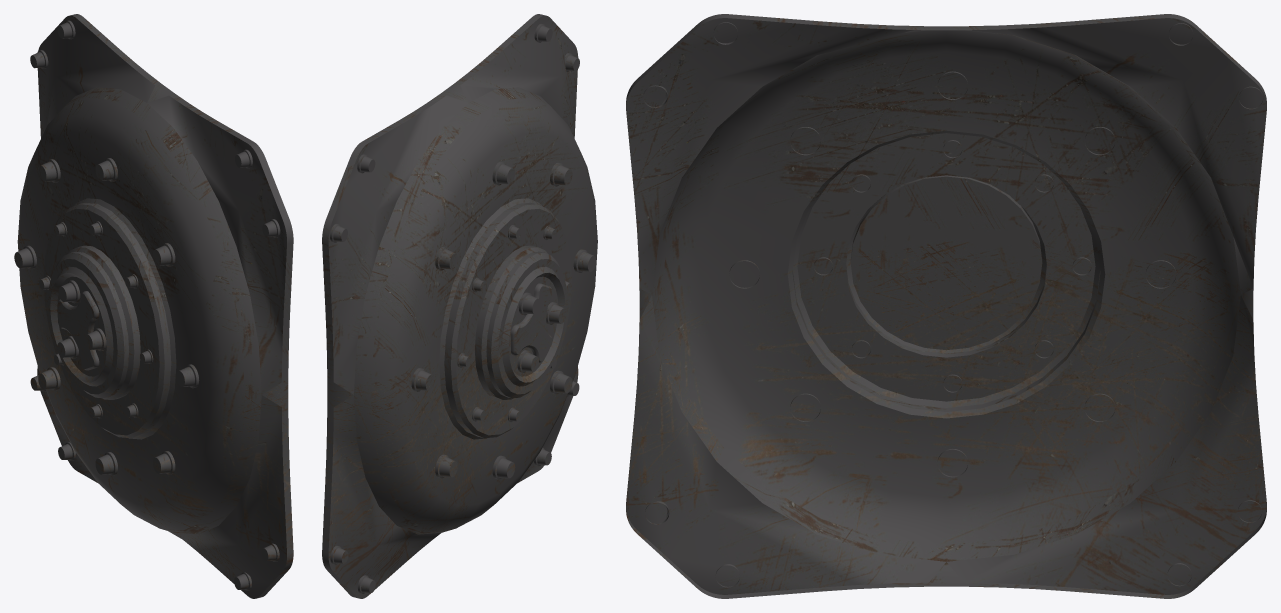
Rendered from RearRim_Inner.gltf.
3 renders of one model, left to right at view 1: azimuth 30°, elevation 25°; view 2: azimuth 150°, elevation 25°; view 3: azimuth 270°, elevation 25°, orthographic. The views are drawn at different scales.
Visible parts, largest first — view 1: AM115_026_22; view 2: AM115_026_22; view 3: AM115_026_22.
Part boxes in pixels (x1=…): AM115_026_22: x1=14, y1=14, x2=293, y2=598; AM115_026_22: x1=322, y1=14, x2=597, y2=598; AM115_026_22: x1=626, y1=14, x2=1266, y2=598.
Bounding box in the file's own units: 0.1522 × 0.6729 × 0.6729.
1 material, 1 textured.
